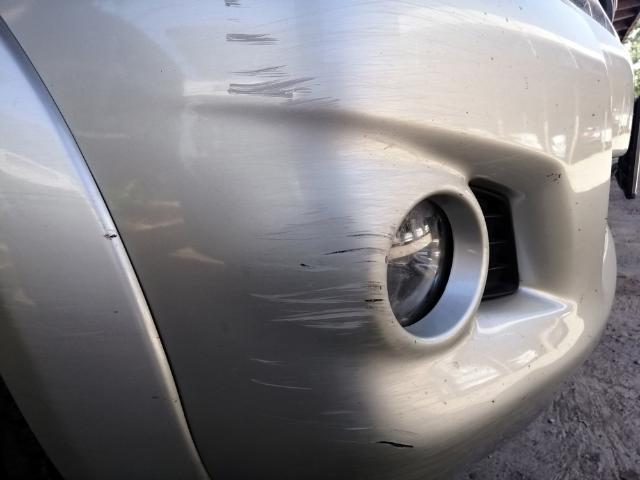scratch: (222, 0, 470, 461)
